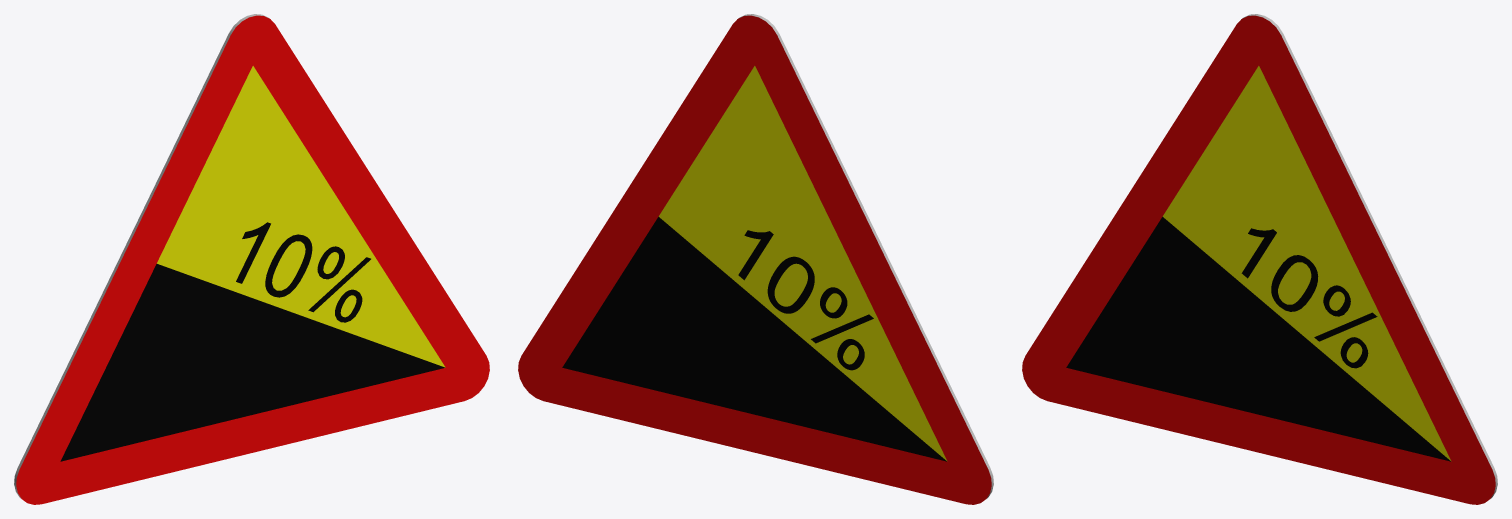
Rendered from w.219_docxuongnguyhiem.glb.
3 views of the same model, side by side, from view 1: azimuth 30°, elevation 25°; view 2: azimuth 150°, elevation 25°; view 3: azimuth 330°, elevation 25° (orthographic).
Parts seen in each view (by area): view 1: Solid3; view 2: Solid3, Solid5; view 3: Solid3.
Boxes of the visible parts, x1,y1,x2,y2 form: Solid3: [14, 14, 489, 504]; Solid3: [518, 14, 993, 504]; Solid5: [738, 230, 873, 370]; Solid3: [1022, 14, 1497, 504].
Bounding box in the file's own units: 0.6486 × 0.5708 × 0.0052.
